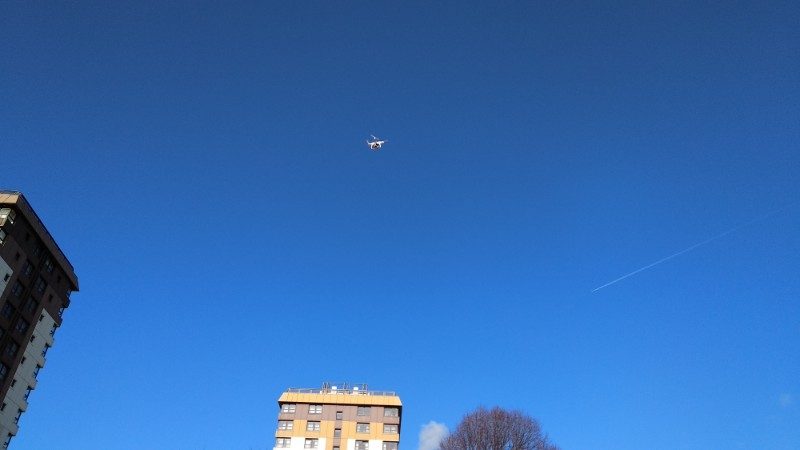drone: (365, 133, 386, 151)
